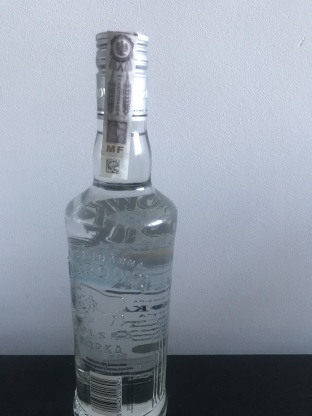nakretka: (93, 26, 150, 124)
